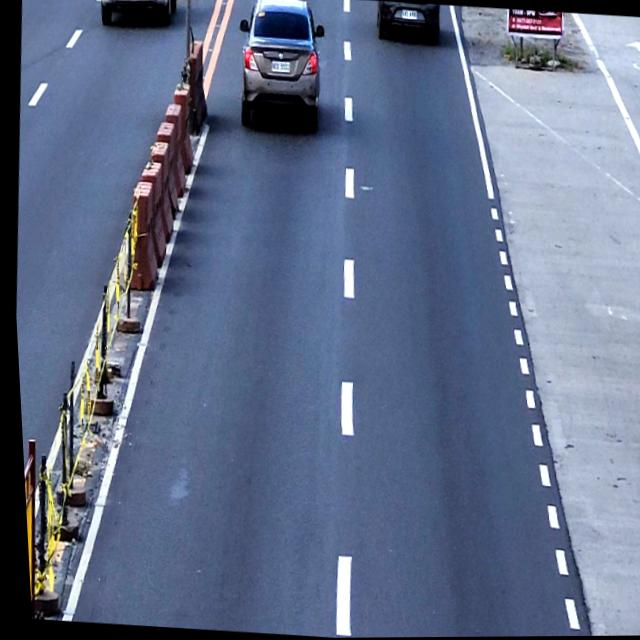Car: (231, 0, 330, 131), (374, 1, 441, 45), (97, 0, 178, 29)
License-Plate: (268, 58, 290, 74), (400, 9, 417, 22)
